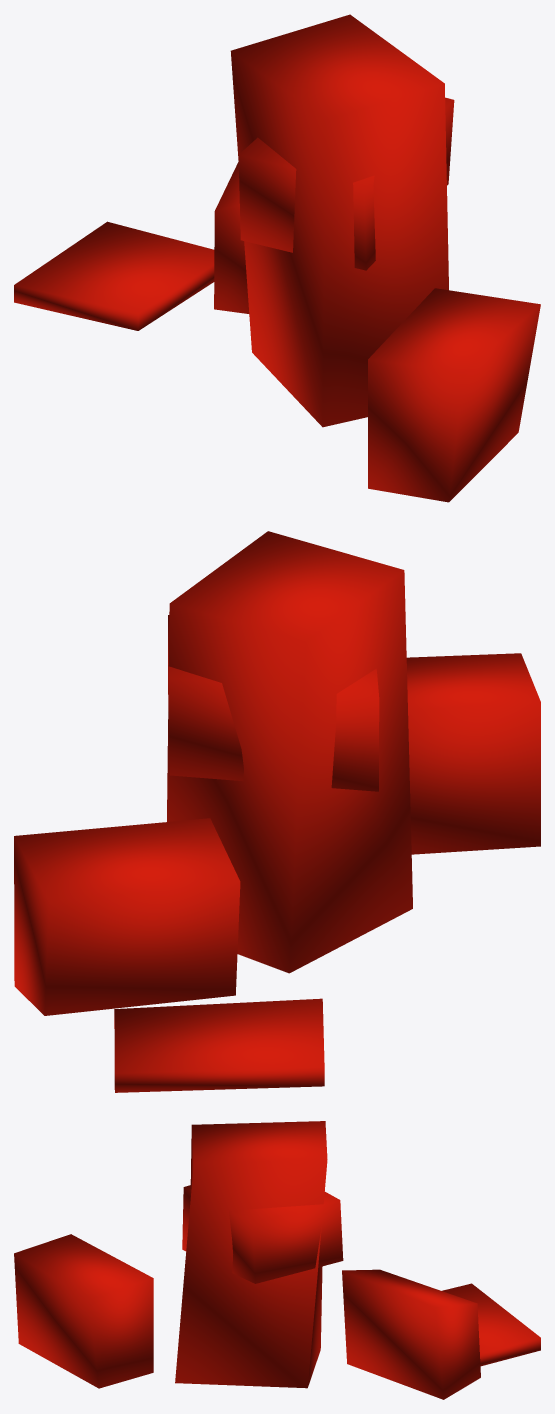
File: UCX_cardboard_boxes_small.fbx
3 renders of one model, top to bottom at view 1: azimuth 30°, elevation 25°; view 2: azimuth 150°, elevation 25°; view 3: azimuth 270°, elevation 25°, orthographic. The views are drawn at different scales.
Visible parts, largest first — view 1: UCX_cardboard_boxes_small; view 2: UCX_cardboard_boxes_small; view 3: UCX_cardboard_boxes_small.
Boxes of the visible parts, bbox=[...] form: UCX_cardboard_boxes_small: bbox=[14, 14, 540, 502]; UCX_cardboard_boxes_small: bbox=[14, 531, 540, 1092]; UCX_cardboard_boxes_small: bbox=[14, 1121, 540, 1399].
Size of the model in its own units: 0.8006 by 0.7909 by 1.65.
